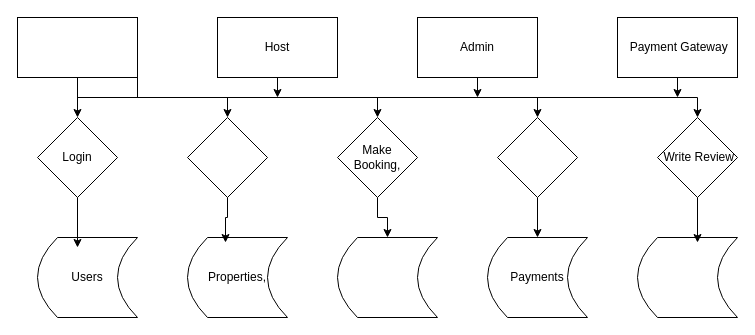
This 755x335 diagram has some shape labels left out. Here are the shapes that lost their labels. From the top down, the box of each, then its label:
(16, 16, 138, 78): Guest
(186, 116, 268, 198): Search Listings,
(496, 116, 578, 198): Make Payment,
(336, 236, 438, 318): Bookings
(636, 236, 738, 318): Reviews
